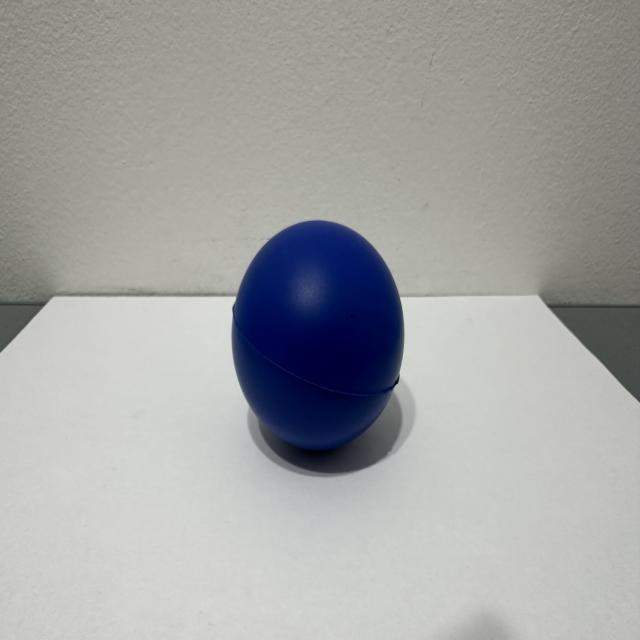blue_ball: (225, 186, 441, 507)
